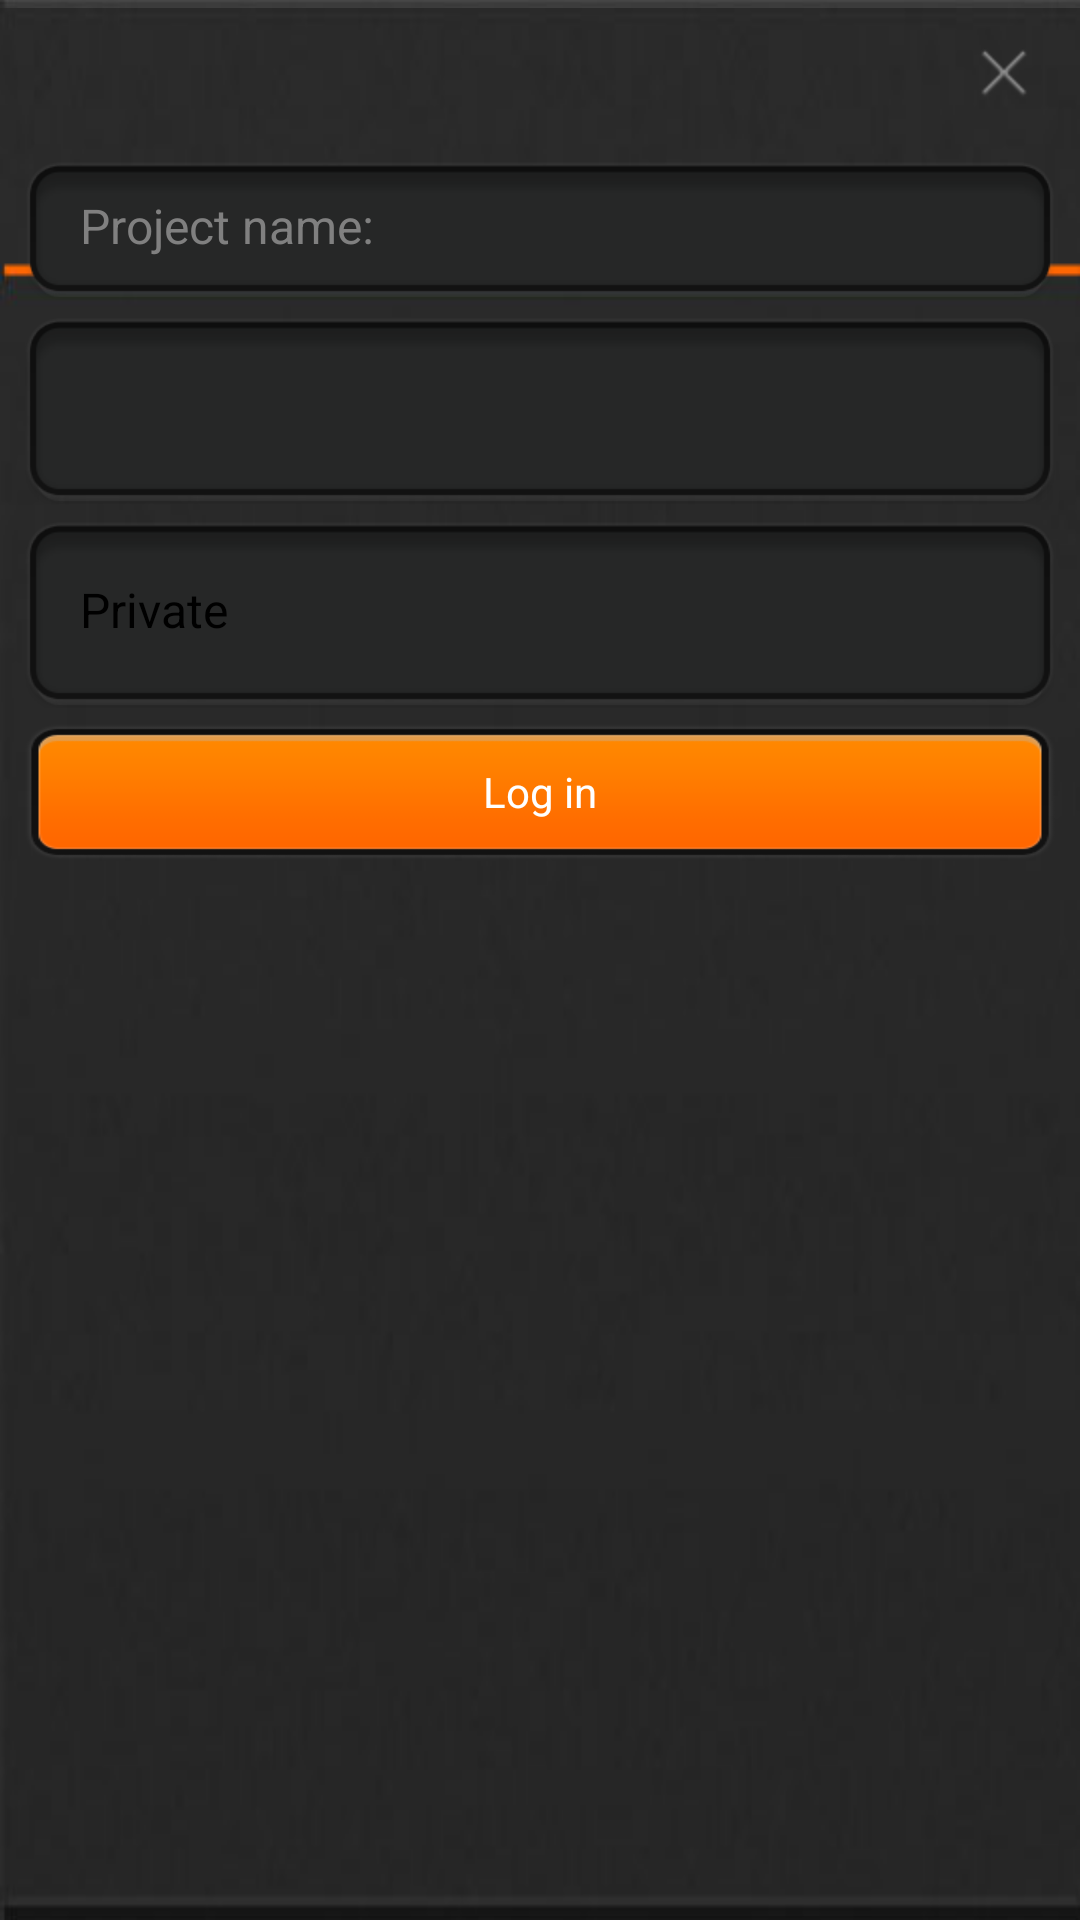

Icons on this 1080*1920 Android screen, each with the point to tap as [x,y]:
close: [1004,72]
